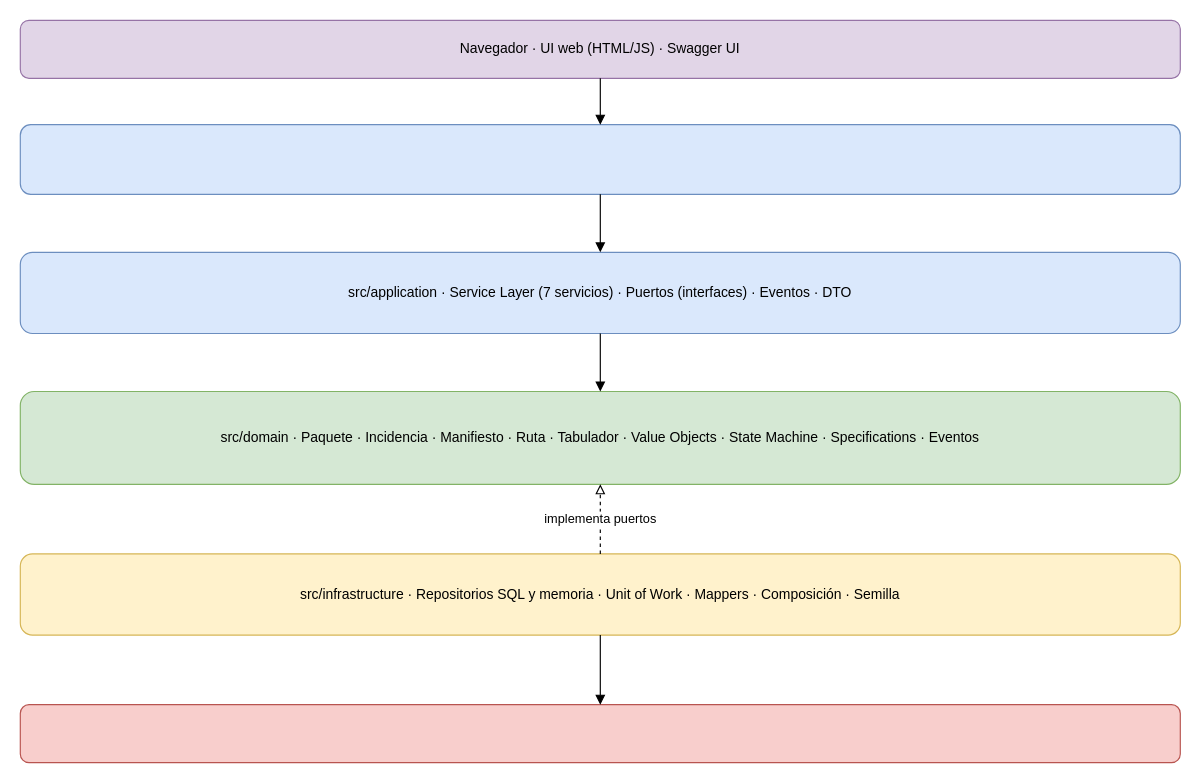
This 1201x783 diagram has some shape labels left out. The centre of each missing label's shape, as x and y in pixels:
"PostgreSQL (Docker Compose / Render) · SQLite (local)" belongs at point 599,733.
"src/api · Flask: rutas REST, errores → HTTP, OpenAPI" belongs at point 599,159.
